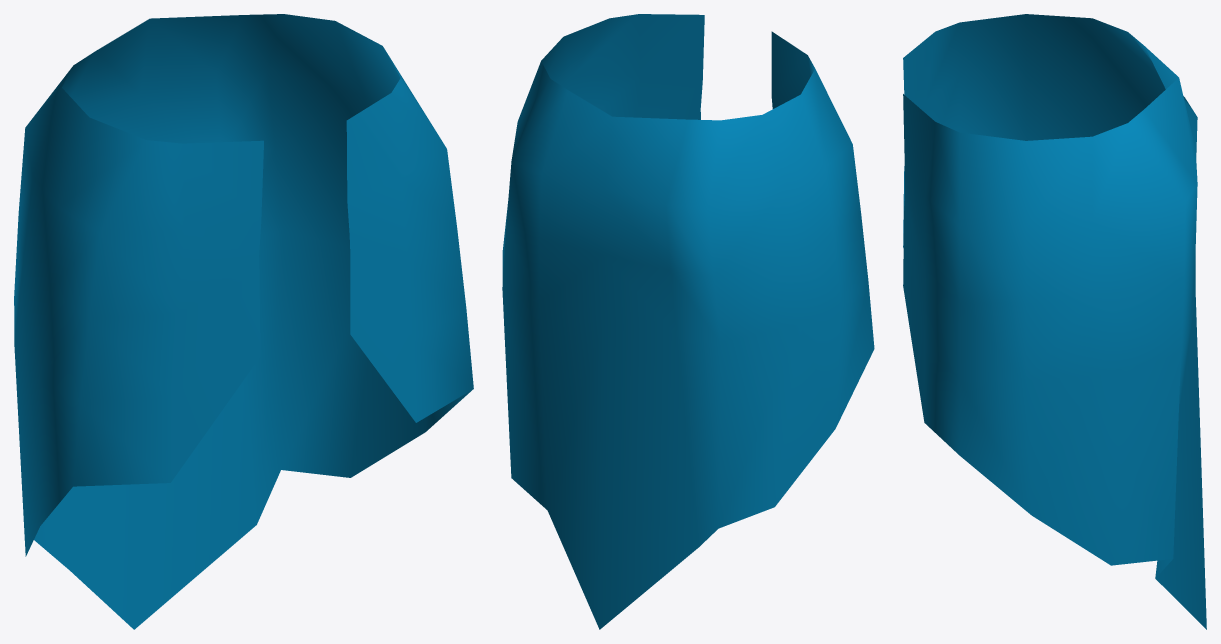
Rendered from WaistCloth.fbx.
The picture shows the model from 3 angles, left to right: view 1: azimuth 30°, elevation 25°; view 2: azimuth 150°, elevation 25°; view 3: azimuth 270°, elevation 25°; orthographic projection. The views are drawn at different scales.
Parts seen in each view (by area): view 1: WaistCloth; view 2: WaistCloth; view 3: WaistCloth.
Boxes of the visible parts, x1,y1,x2,y2 form: WaistCloth: [14, 14, 473, 629]; WaistCloth: [502, 14, 874, 629]; WaistCloth: [903, 14, 1206, 629].
Bounding box in the file's own units: 2.09 × 3.11 × 1.54.
